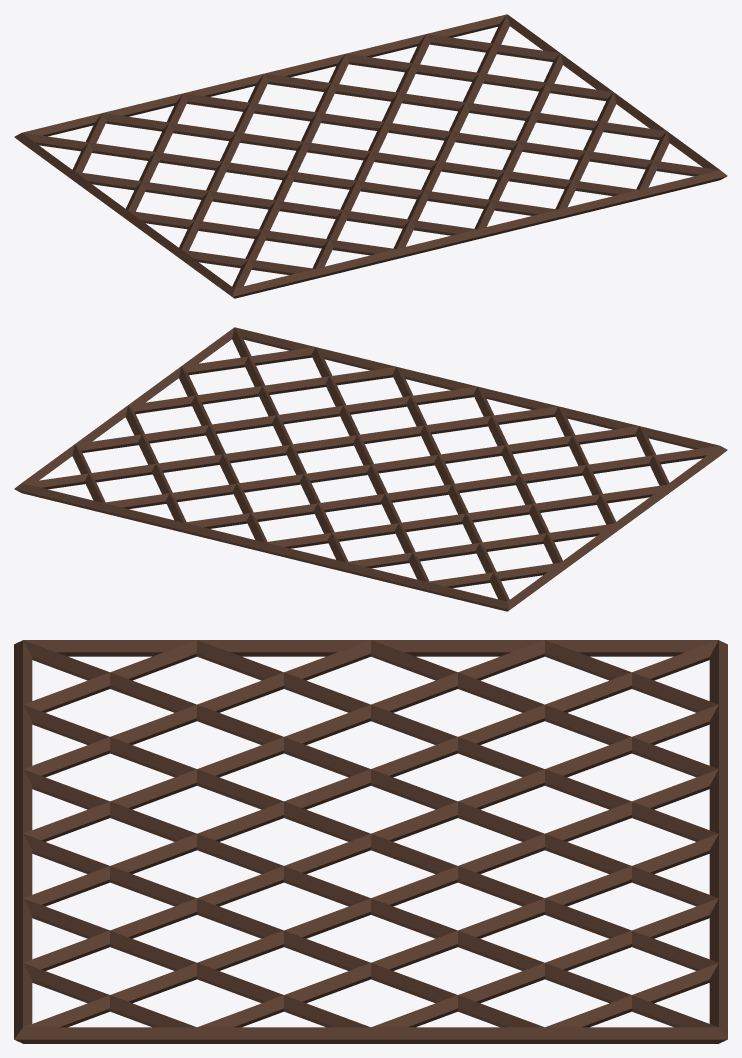
3 views of the same model, one above another, from view 1: azimuth 30°, elevation 25°; view 2: azimuth 150°, elevation 25°; view 3: azimuth 270°, elevation 25° (orthographic). The views are drawn at different scales.
Visible parts, largest first — view 1: Plane; view 2: Plane; view 3: Plane.
Boxes of the visible parts, <box> form: Plane: <box>14,14,727,298</box>; Plane: <box>14,327,727,611</box>; Plane: <box>14,640,727,1043</box>.
Size of the model in its own units: 2.04 by 0.04 by 1.56.
